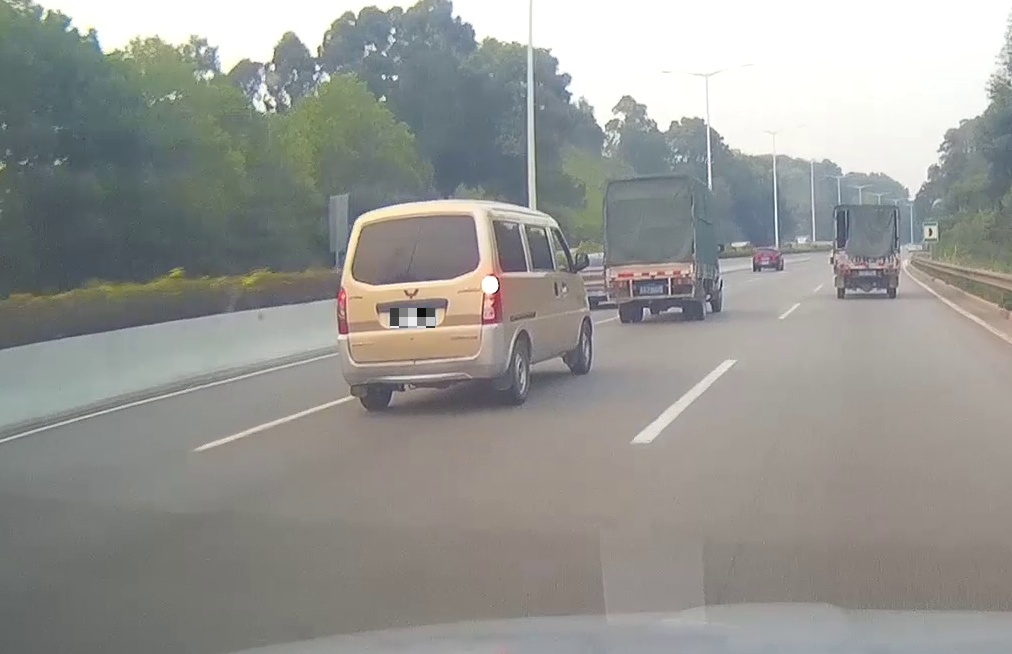L_light: (336, 287, 348, 335), (609, 281, 627, 288), (838, 270, 849, 275)
R_light: (481, 274, 503, 325), (673, 278, 692, 285), (884, 269, 897, 274)
T_light: (398, 217, 428, 224), (641, 266, 660, 273), (862, 258, 873, 261)
day-no: (602, 173, 698, 324), (833, 204, 900, 298)
day-right: (336, 200, 509, 412)
plate_1: (390, 308, 435, 328)
